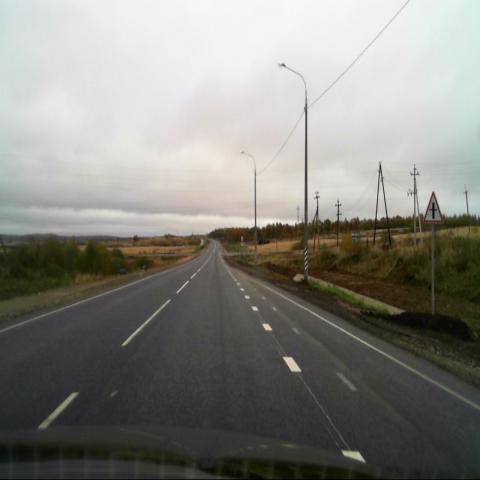2_3: (424, 193, 443, 224)
